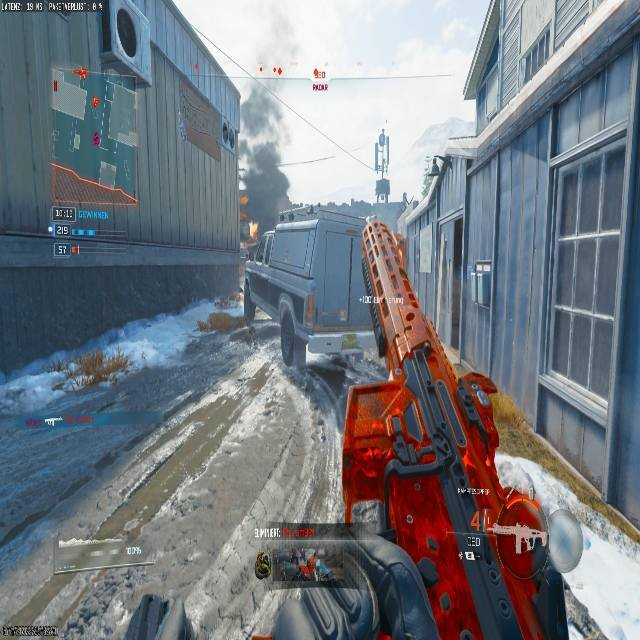player: (224, 85, 297, 242)
